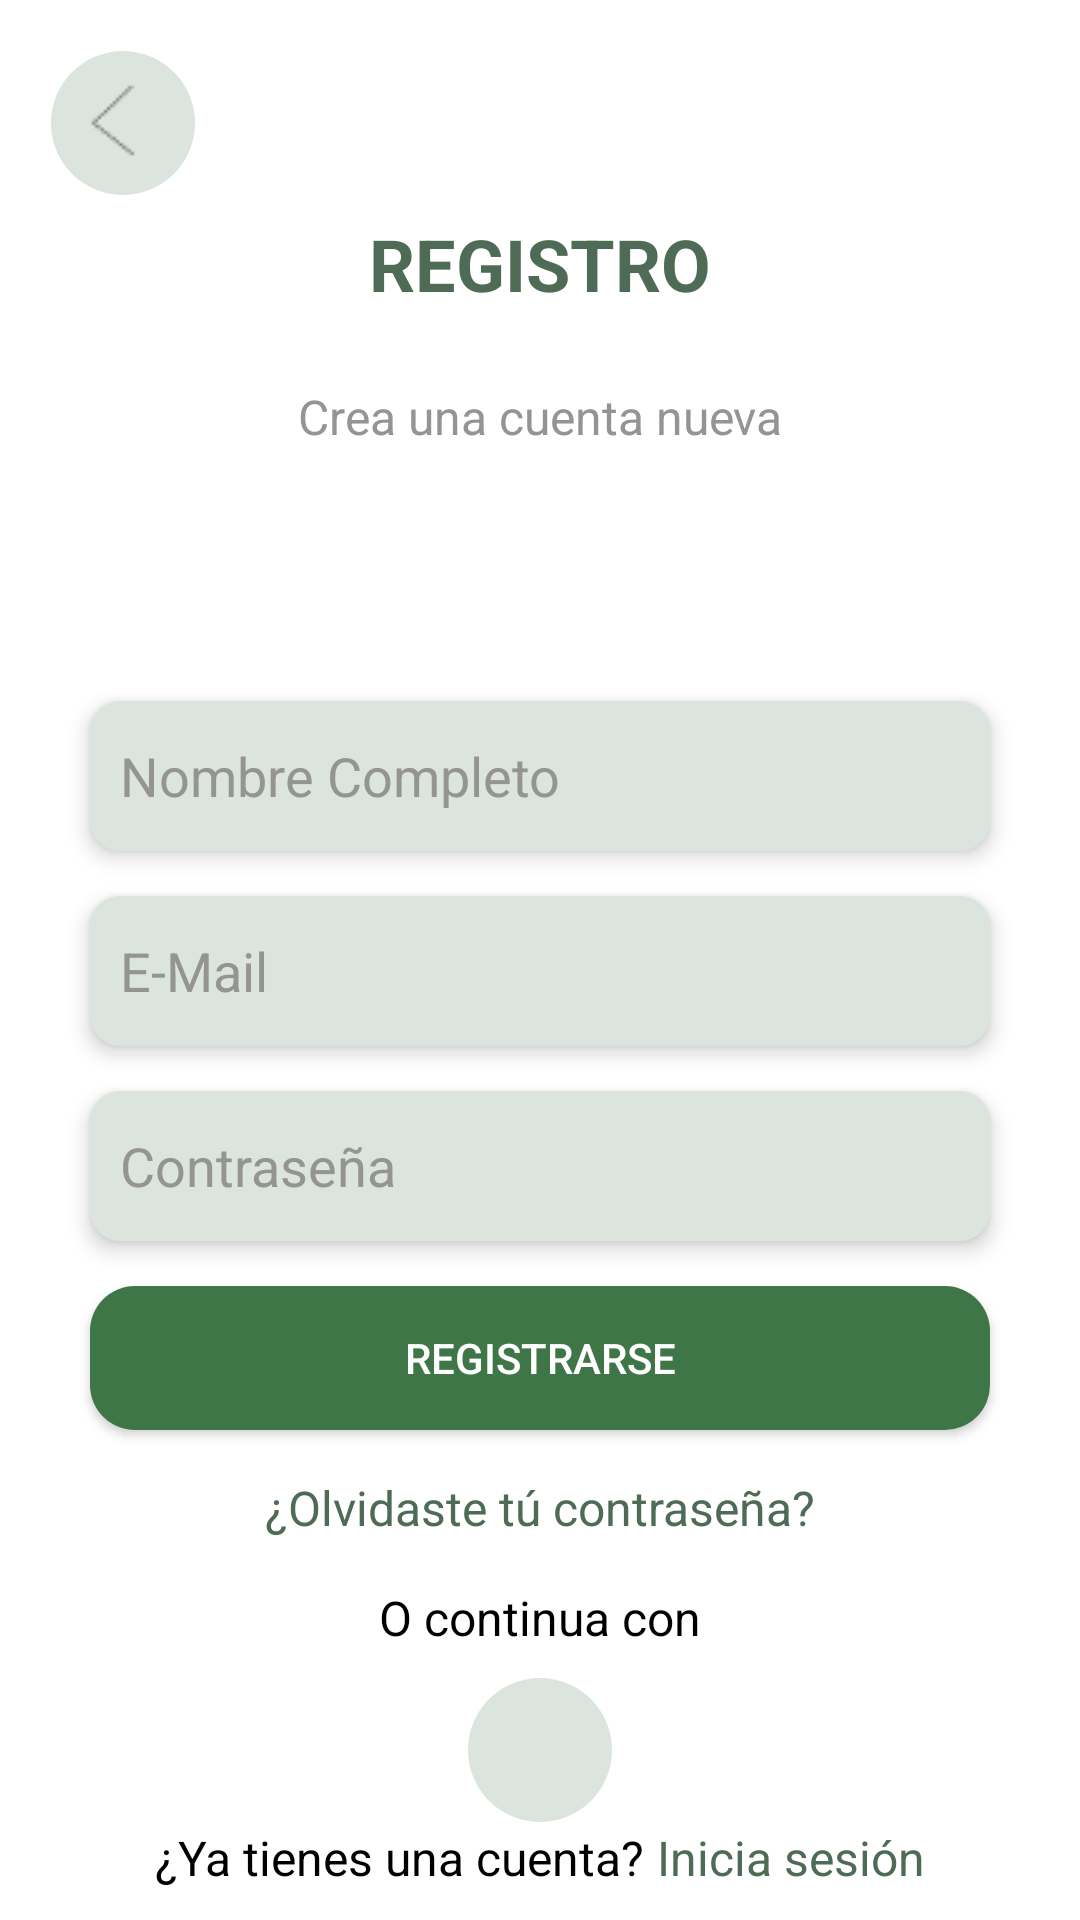

Named icons in this screenshot (1080×1920) and their centers, (x=x, y=y):
atras: (x=123, y=123)
